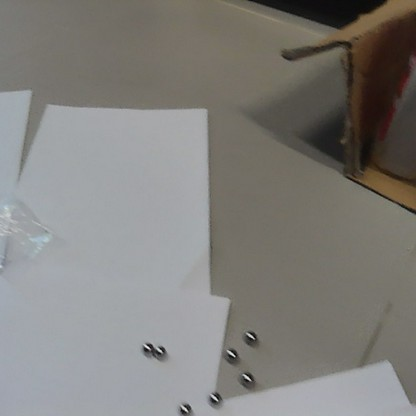ironball: (241, 325, 260, 348), (207, 387, 224, 408), (237, 371, 254, 389), (139, 338, 155, 357), (222, 345, 238, 364), (177, 401, 193, 416), (154, 343, 166, 358)
